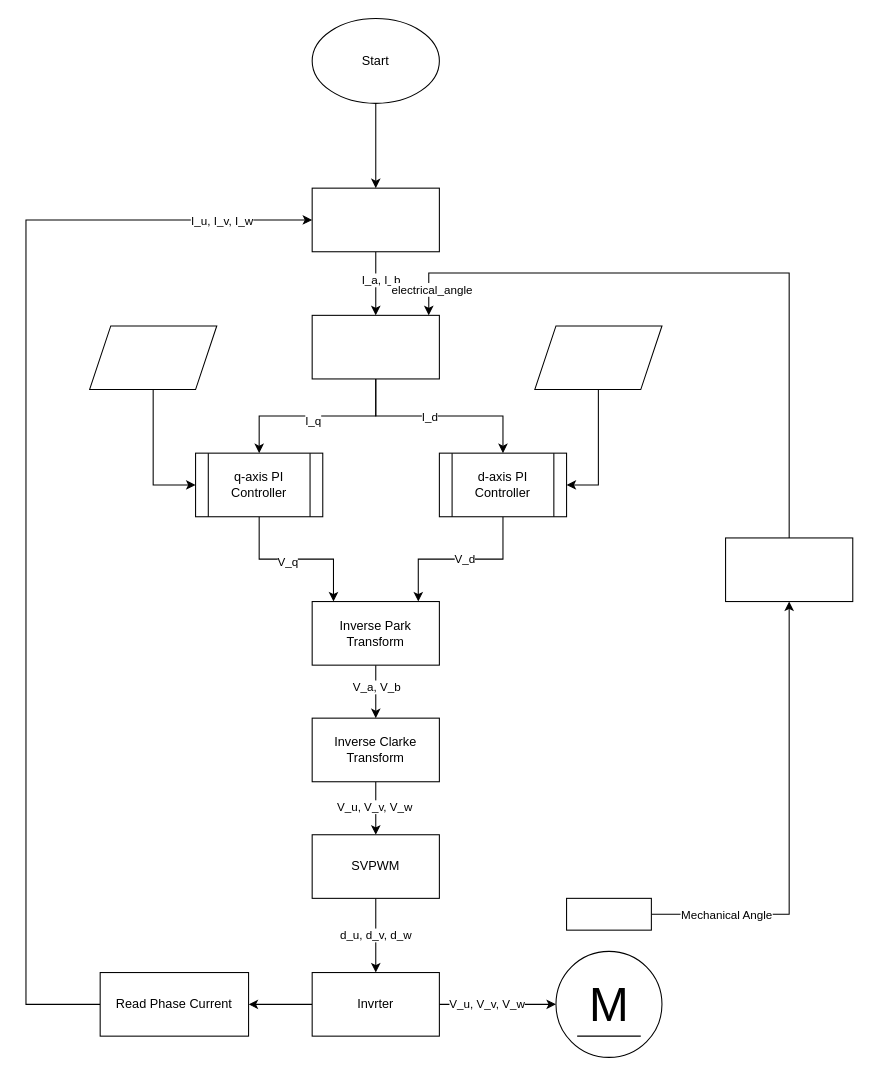
This 871x1076 diagram has some shape labels left out. Here are the shapes that lost their labels. From the top down, the box of each, then its label:
(311, 187, 439, 252): Clarke Transform
(89, 325, 217, 390): I_q*
(311, 314, 439, 379): Park Transform
(534, 325, 662, 390): I_d*
(566, 897, 651, 930): Encoder
